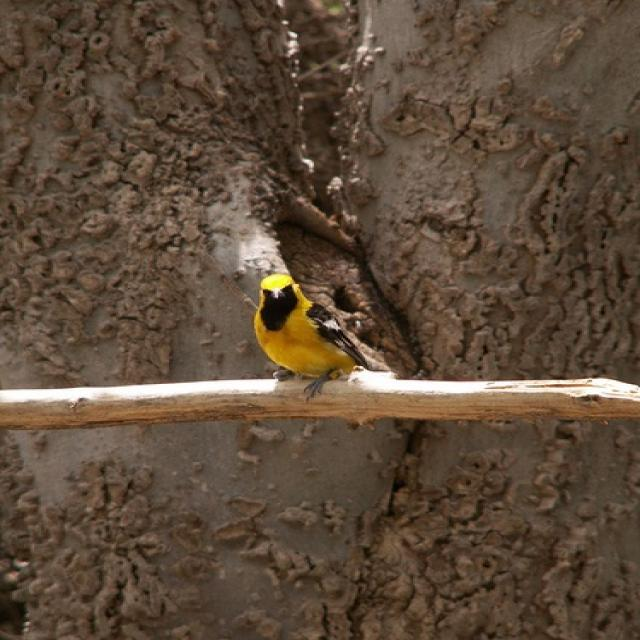bird: (252, 273, 368, 402)
